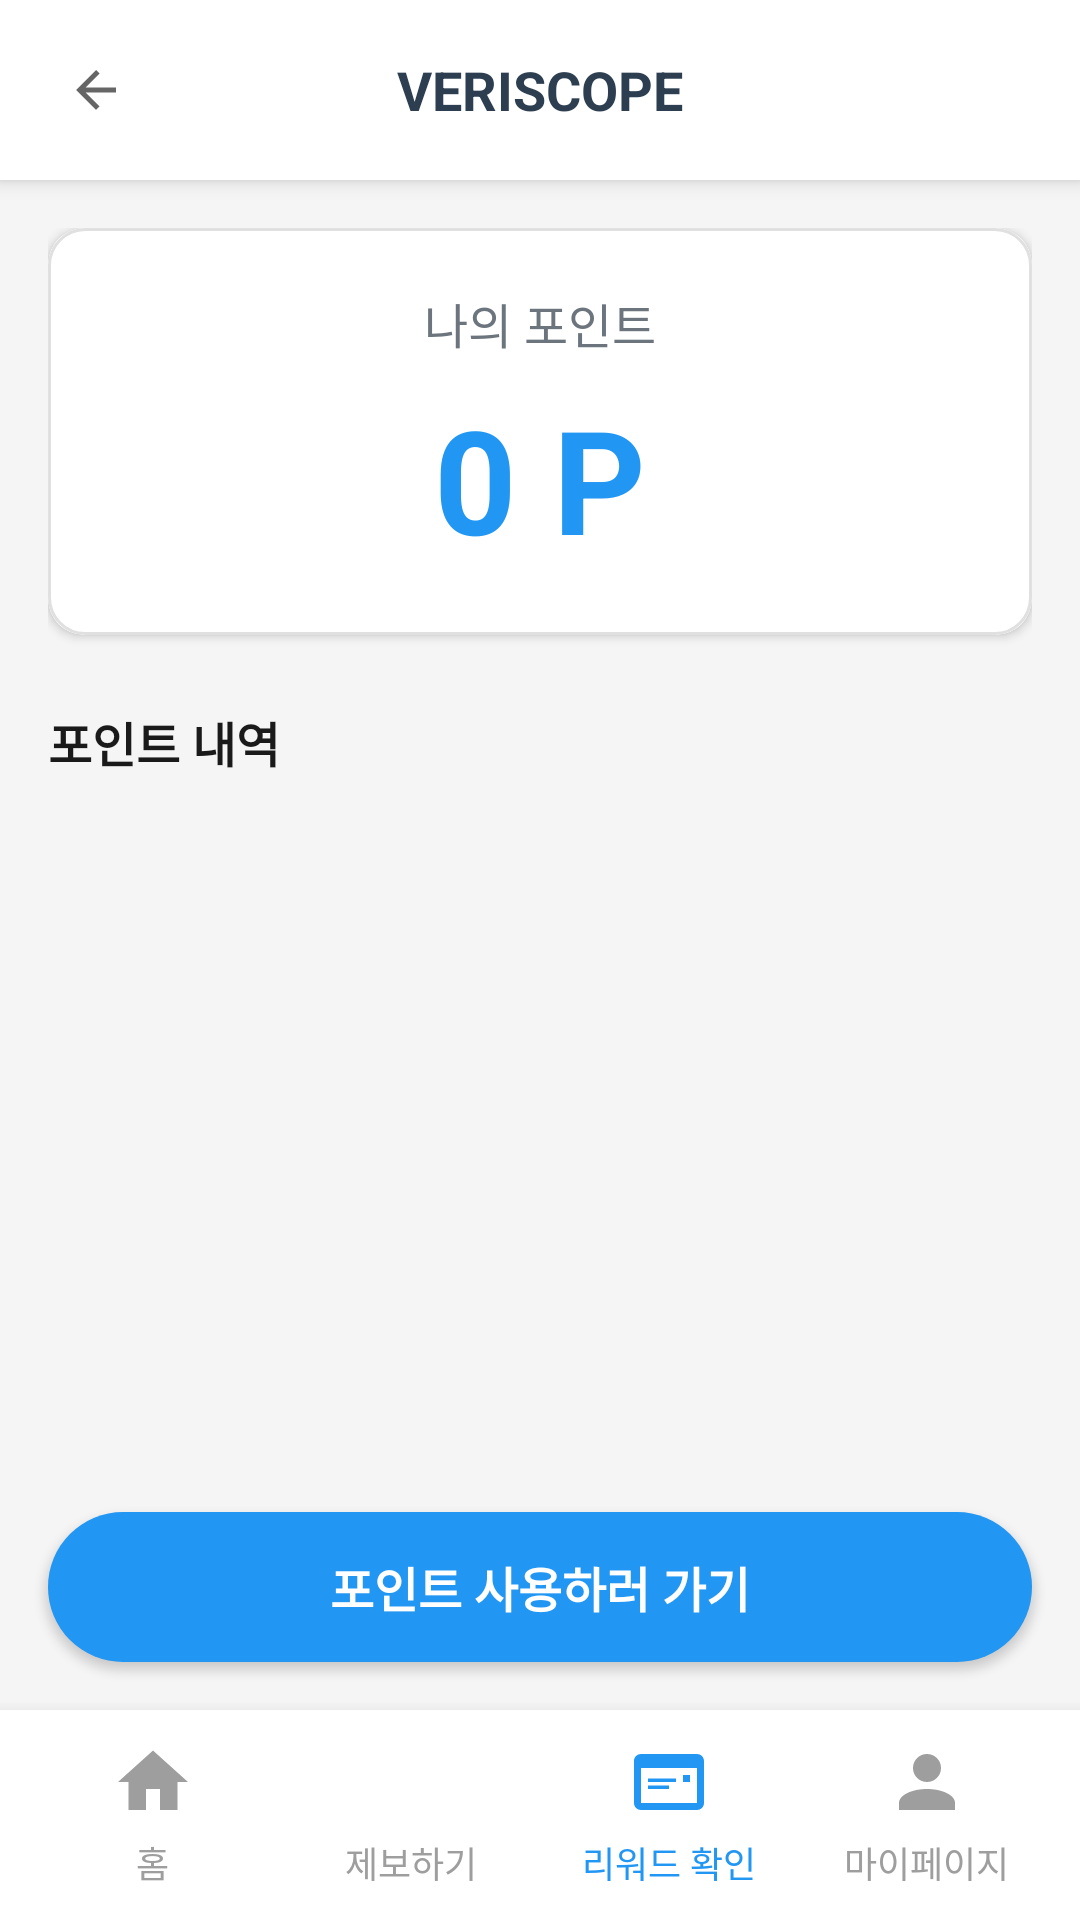

Icons on this 1080 × 1920 Android screen, each with the point to tap as [x,y]:
arrow back: [96,90]
person: [927,1782]
